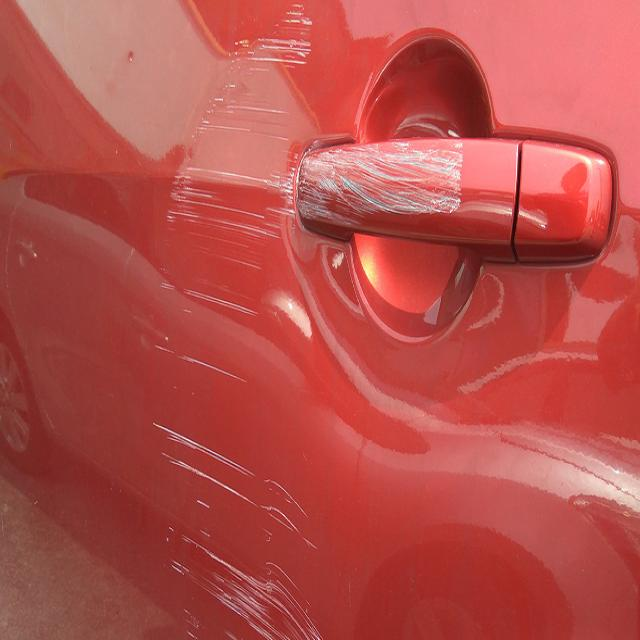scratch: (140, 0, 481, 640)
